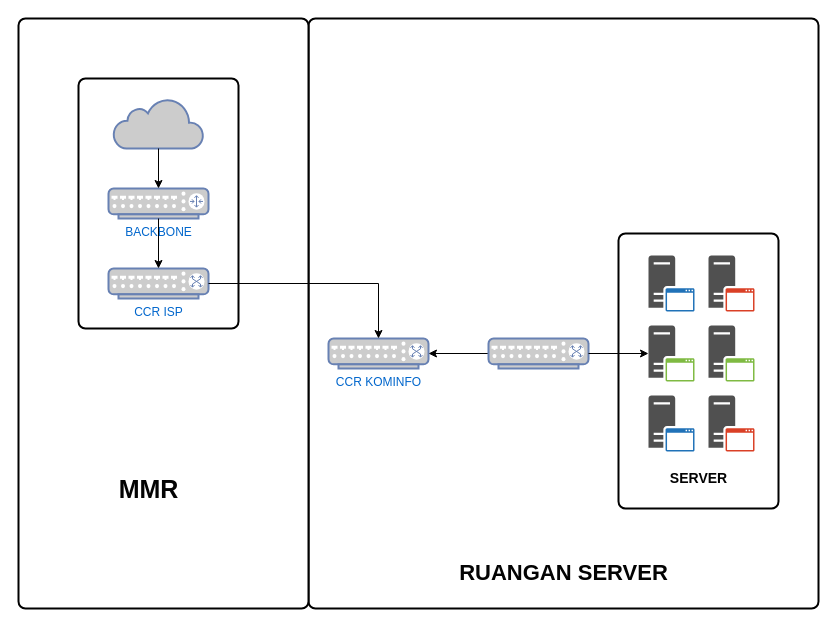
Image size: 836x626. Some labels were removed from this diagram. Each missing label, with the centre of its shape:
ISP: (158,123)
VLAN: (538,353)
